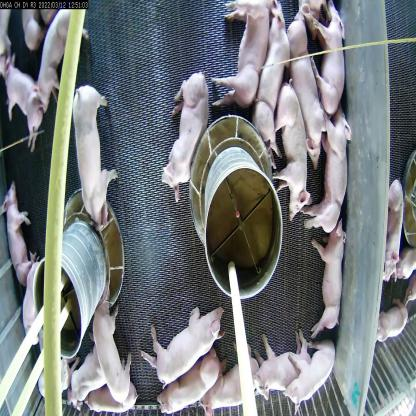Pig: (70, 72, 121, 228), (298, 110, 356, 236), (163, 65, 212, 197), (33, 1, 88, 106), (285, 20, 329, 148), (87, 287, 135, 401), (275, 82, 314, 222), (219, 0, 268, 111), (146, 301, 221, 370), (310, 223, 352, 338), (255, 0, 286, 152), (309, 0, 344, 116), (0, 171, 32, 291), (160, 353, 222, 404), (0, 62, 40, 138), (63, 345, 107, 409), (257, 339, 305, 394), (290, 339, 330, 401), (207, 365, 255, 413)
